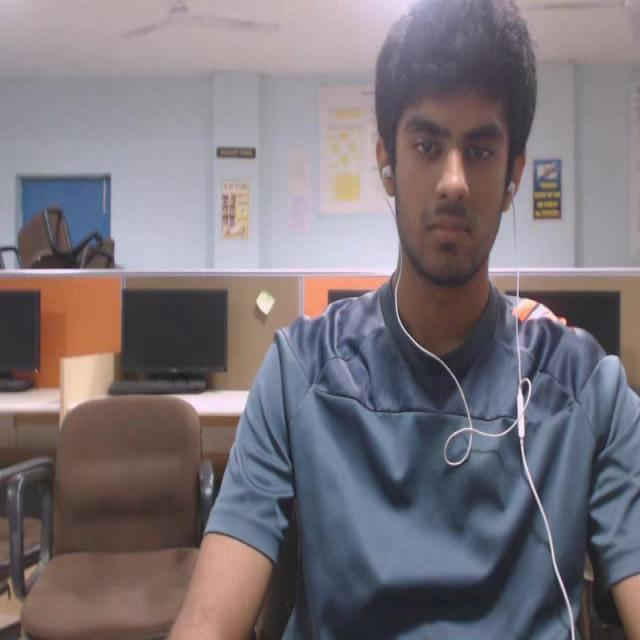Bored: (368, 0, 554, 309)
